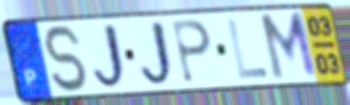J: (90, 21, 132, 93), (138, 19, 179, 90)
L: (225, 18, 271, 80)
M: (257, 9, 320, 84)
P: (170, 19, 214, 86)
S: (41, 23, 93, 95)
